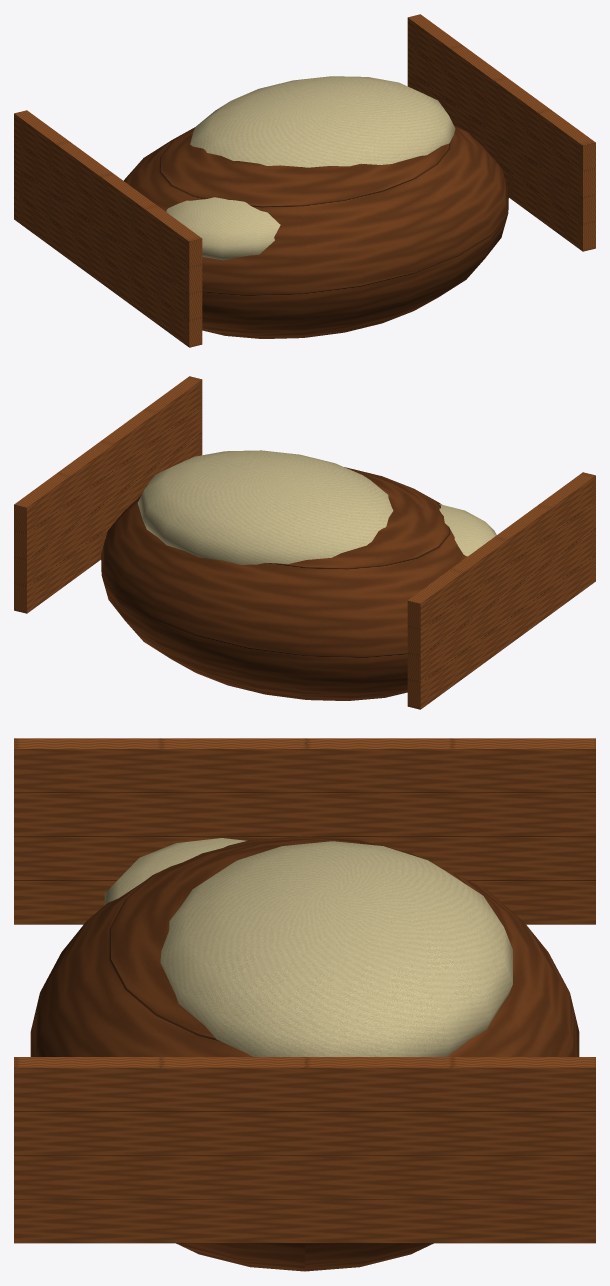
The model's file is farm-and-working-animals-hd-muck-heap-f145373b__29216.glb.
The picture shows the model from 3 angles, top to bottom: view 1: azimuth 30°, elevation 25°; view 2: azimuth 150°, elevation 25°; view 3: azimuth 270°, elevation 25°; orthographic projection. The views are drawn at different scales.
Visible parts, largest first — view 1: muck-heap; view 2: muck-heap; view 3: muck-heap.
Part boxes in pixels (x1,y1,x2,y2): muck-heap: [14, 14, 595, 347]; muck-heap: [14, 376, 595, 709]; muck-heap: [14, 738, 595, 1271].
Bounding box in the file's own units: 2.81 × 1.34 × 2.1.
3 materials, 3 textured.
